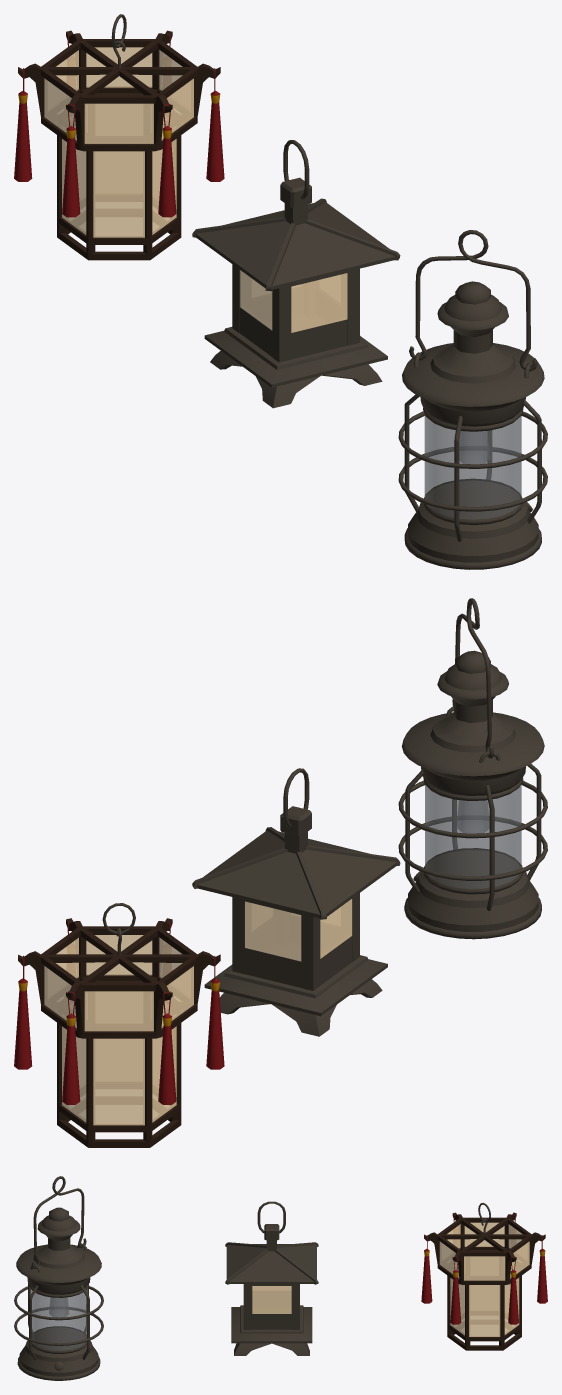
File: lanterns_lowpoly_models_homework_11.glb
3 views of the same model, one above another, from view 1: azimuth 30°, elevation 25°; view 2: azimuth 150°, elevation 25°; view 3: azimuth 270°, elevation 25° (orthographic). The views are drawn at different scales.
Visible parts, largest first — view 1: JapaneseLantern, EuropeanLantern, ChineseLantern; view 2: JapaneseLantern, EuropeanLantern, ChineseLantern; view 3: JapaneseLantern, EuropeanLantern, ChineseLantern.
Part boxes in pixels (x1,y1,x2,y2): JapaneseLantern: (14, 14, 224, 260); EuropeanLantern: (398, 230, 547, 569); ChineseLantern: (192, 140, 400, 408); JapaneseLantern: (14, 903, 224, 1147); EuropeanLantern: (398, 598, 547, 939); ChineseLantern: (192, 768, 400, 1036); JapaneseLantern: (421, 1202, 547, 1350); EuropeanLantern: (14, 1176, 103, 1380); ChineseLantern: (225, 1201, 318, 1355).
Size of the model in its own units: 3.09 by 5.84 by 15.05.
